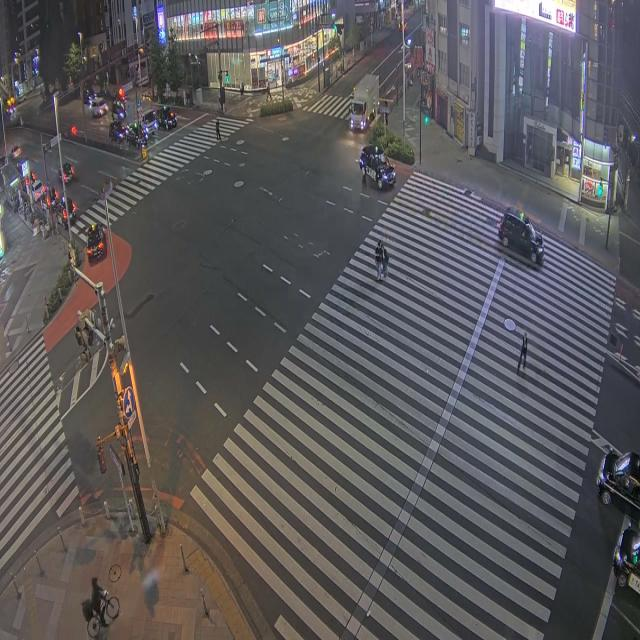car: (498, 208, 543, 265), (613, 526, 639, 593), (359, 145, 395, 189), (86, 224, 105, 261), (126, 123, 148, 148), (156, 105, 176, 130), (141, 109, 158, 135), (60, 196, 76, 223), (90, 98, 108, 117), (109, 122, 126, 142), (112, 98, 126, 121), (54, 202, 67, 226), (32, 180, 46, 202), (59, 163, 73, 183), (10, 145, 21, 159)
truck: (350, 74, 379, 130)
